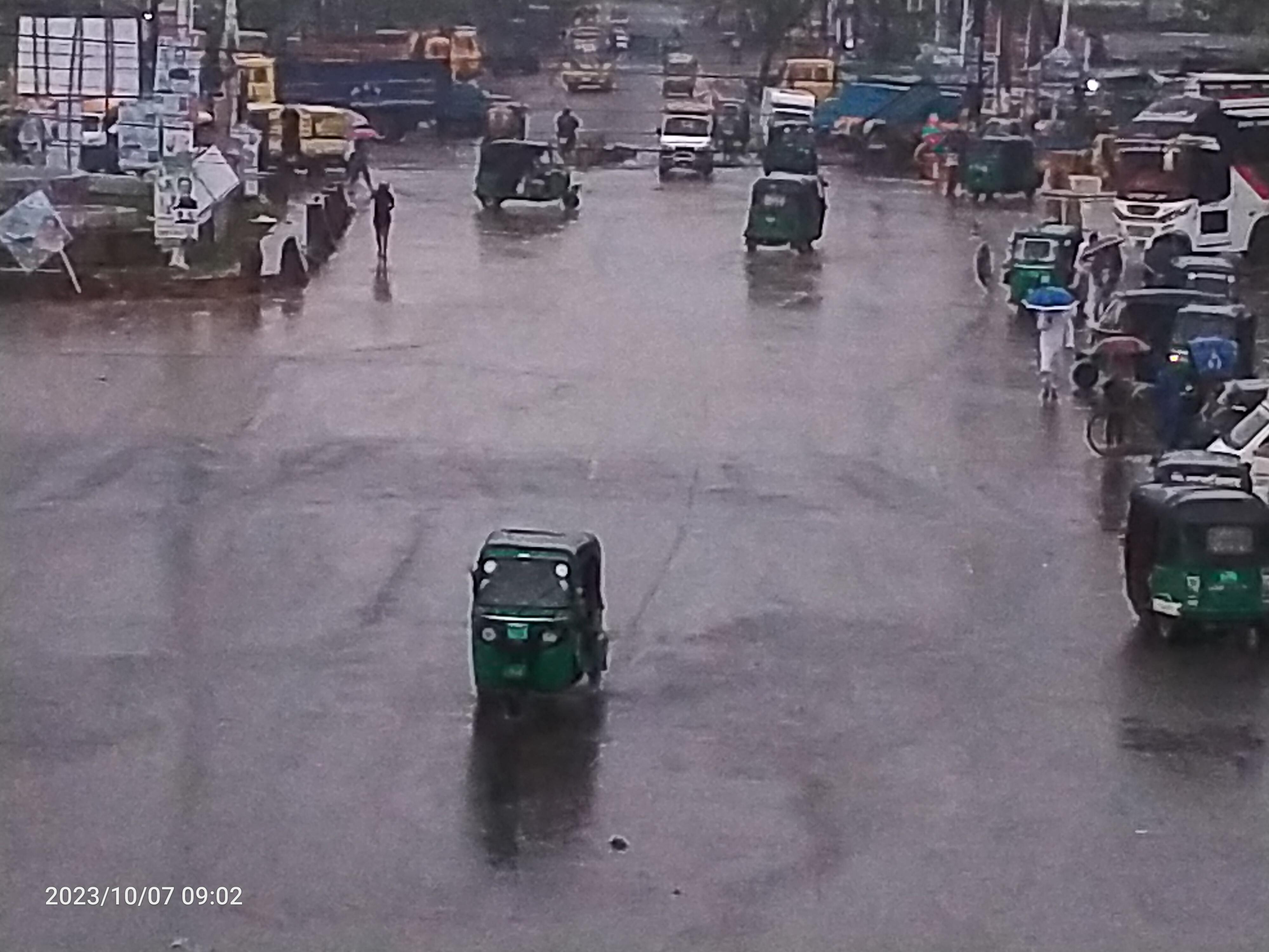Bus: (1092, 78, 1269, 273)
Car: (431, 476, 628, 761), (1068, 447, 1269, 662), (220, 84, 369, 178), (937, 113, 1067, 219), (991, 204, 1112, 315), (455, 130, 594, 226), (708, 169, 826, 278), (628, 93, 730, 187)
